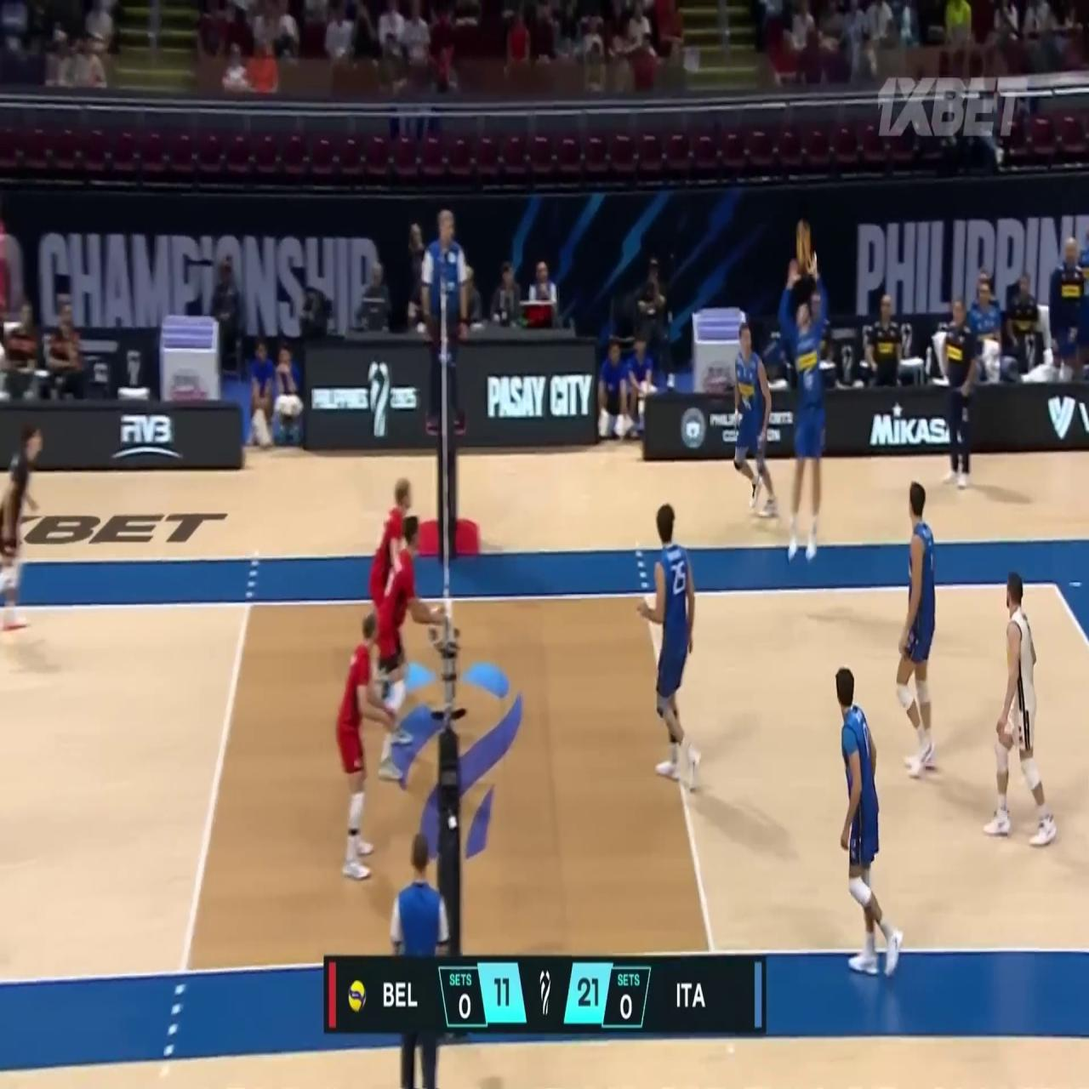ball: (796, 222, 811, 264)
